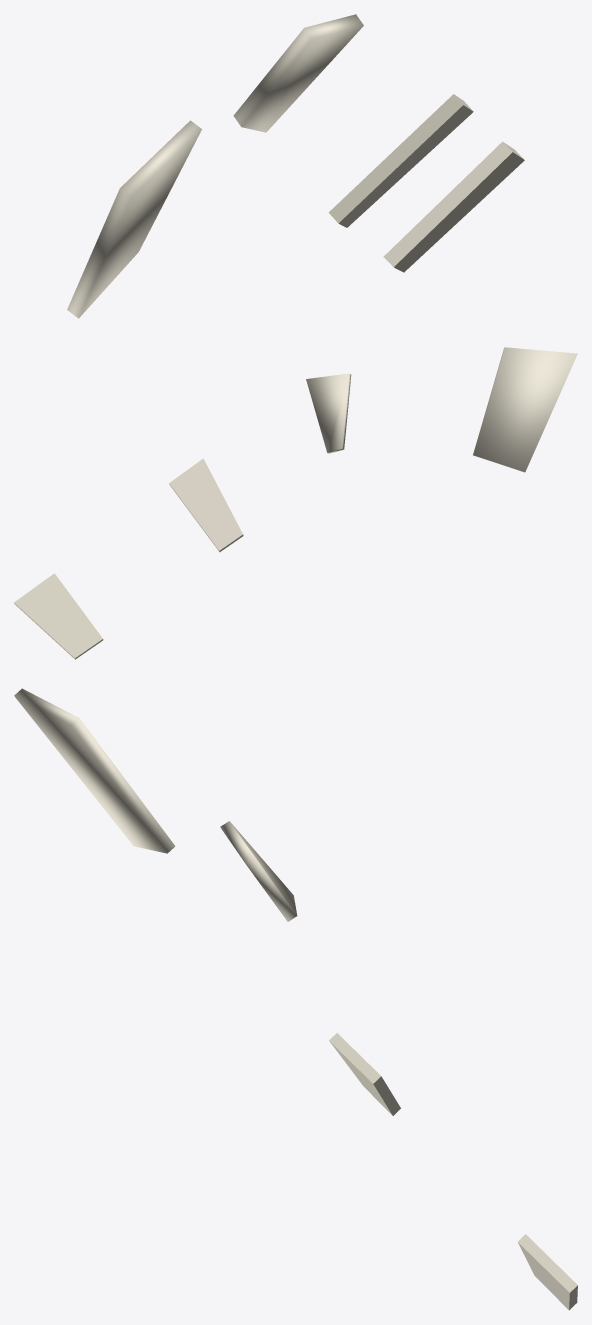
3 renders of one model, top to bottom at view 1: azimuth 30°, elevation 25°; view 2: azimuth 150°, elevation 25°; view 3: azimuth 270°, elevation 25°, orthographic. The views are drawn at different scales.
Visible parts, largest first — view 1: ZA_245861b25ca1c420; view 2: ZA_245861b25ca1c420; view 3: ZA_245861b25ca1c420.
Part boxes in pixels (bbox=[...]): ZA_245861b25ca1c420: bbox=[67, 14, 524, 318]; ZA_245861b25ca1c420: bbox=[14, 347, 577, 659]; ZA_245861b25ca1c420: bbox=[14, 688, 577, 1310].
Bounding box in the file's own units: 0.0297 × 0.0192 × 0.025.
